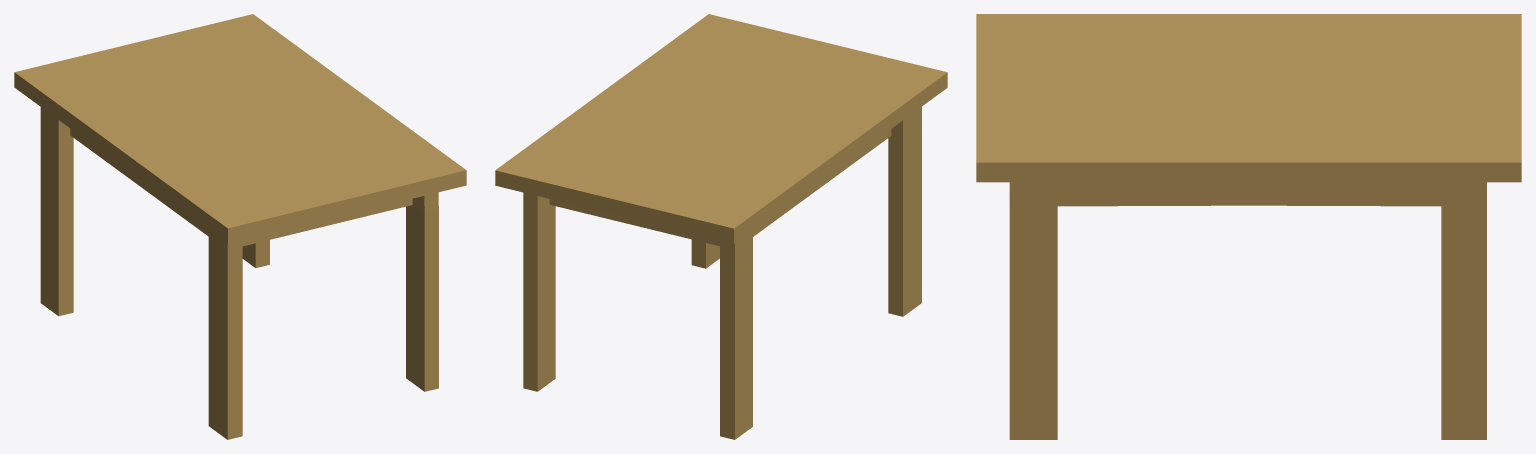
File: table.fbx
The picture shows the model from 3 angles, left to right: view 1: azimuth 30°, elevation 25°; view 2: azimuth 150°, elevation 25°; view 3: azimuth 270°, elevation 25°; orthographic projection. The views are drawn at different scales.
Visible parts, largest first — view 1: table; view 2: table; view 3: table.
Part boxes in pixels (<box>): table: <box>14,14,466,439</box>; table: <box>495,14,947,439</box>; table: <box>976,14,1521,439</box>.
Bounding box in the file's own units: 4.09 × 3.67 × 6.34.
1 material, 1 textured.
